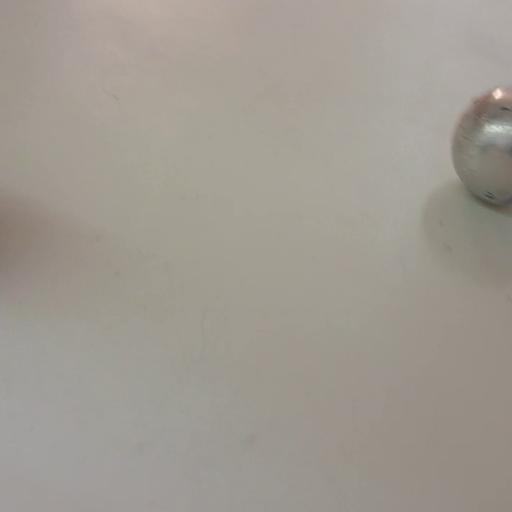alive: (447, 83, 512, 205)
